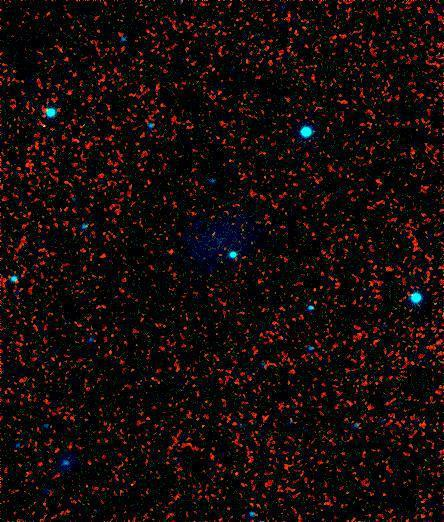star: (25, 113, 55, 143)
